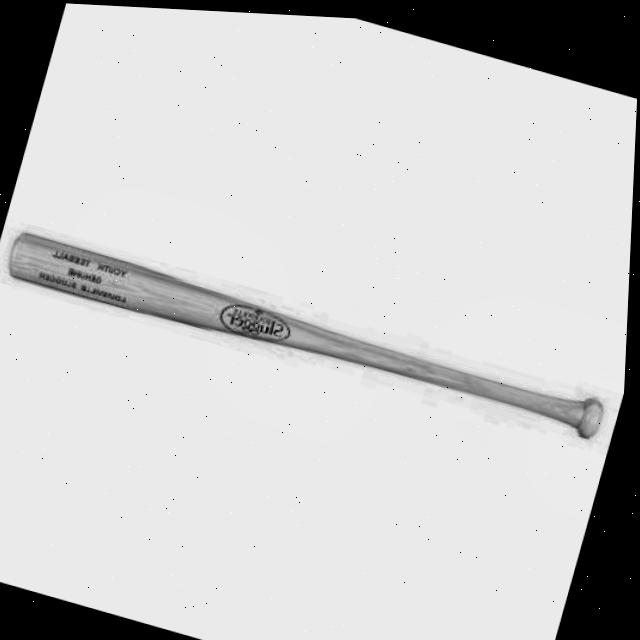tongkat pemukul: (0, 215, 615, 453)
